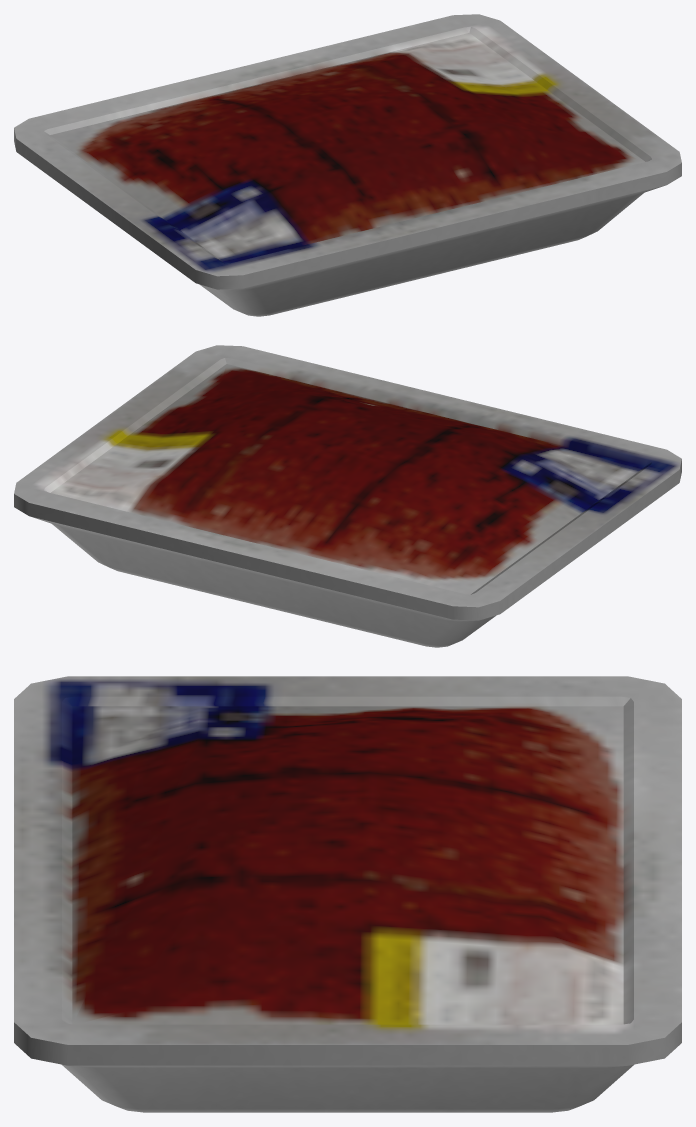
File: meat_1.obj
3 renders of one model, top to bottom at view 1: azimuth 30°, elevation 25°; view 2: azimuth 150°, elevation 25°; view 3: azimuth 270°, elevation 25°, orthographic. The views are drawn at different scales.
Visible parts, largest first — view 1: meat_1; view 2: meat_1; view 3: meat_1.
Part boxes in pixels (box(x1,y1,x2,y2)): meat_1: box(14, 14, 681, 316); meat_1: box(14, 345, 681, 647); meat_1: box(14, 676, 681, 1112).
Size of the model in its own units: 0.342 by 0.0752 by 0.2619.
